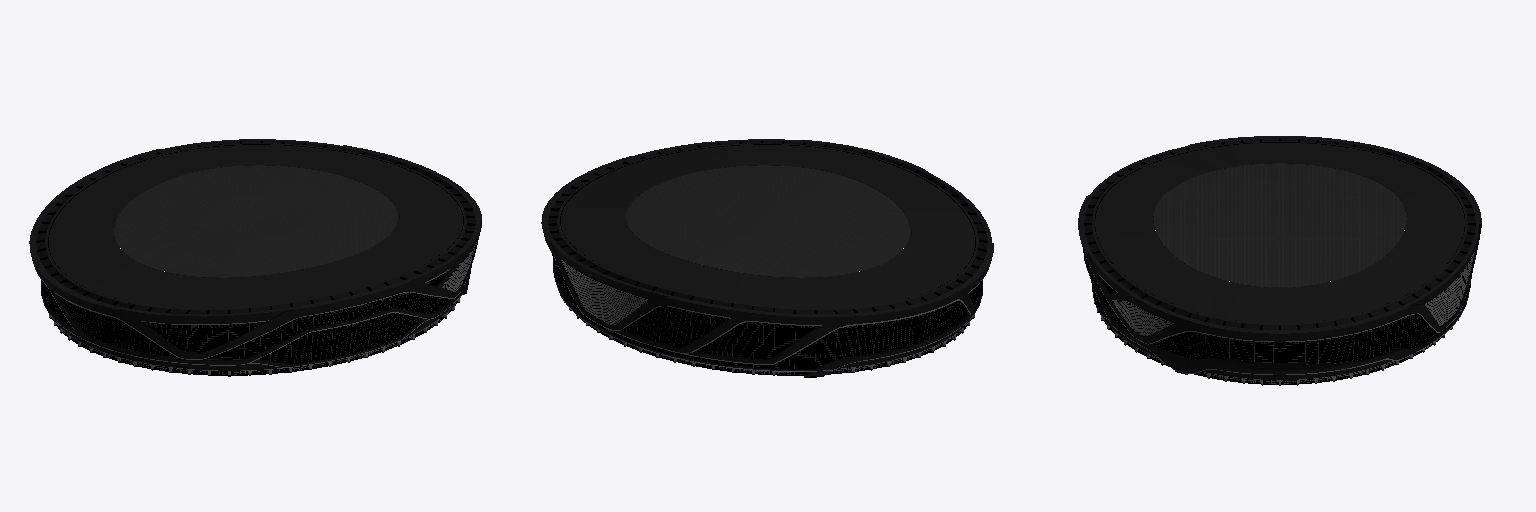
The picture shows the model from 3 angles: view 1: azimuth 30°, elevation 25°; view 2: azimuth 150°, elevation 25°; view 3: azimuth 270°, elevation 25°; orthographic projection.
Parts seen in each view (by area): view 1: object_1, object_0; view 2: object_1, object_0; view 3: object_1, object_0.
Part boxes in pixels (bbox=[...]): object_1: bbox=[29, 139, 481, 376]; object_0: bbox=[114, 165, 397, 277]; object_1: bbox=[541, 139, 993, 377]; object_0: bbox=[626, 165, 909, 277]; object_1: bbox=[1078, 136, 1481, 385]; object_0: bbox=[1153, 163, 1406, 286].
Size of the model in its own units: 3529 by 640 by 3043.
Materials: 2 (2 with a texture image).